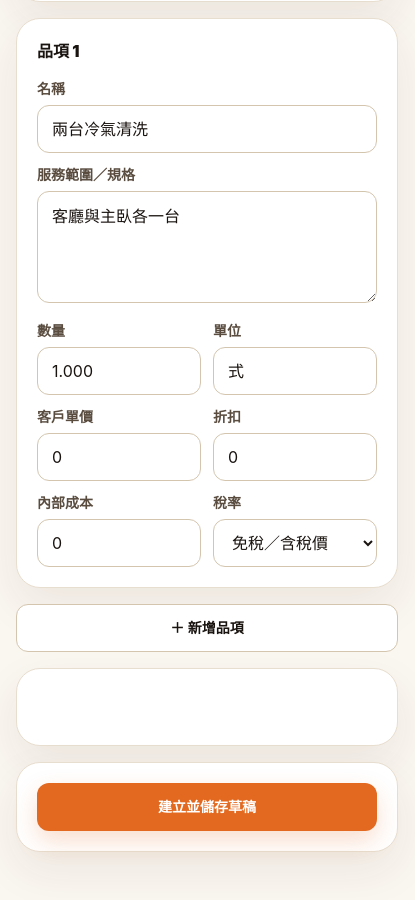
Test: PilotQuoteEditor › creates a real draft from a triaged request and previews calculated totals
This screenshot has width=415, height=900.
(page scrolled)
Replace the text in the field named "品項 1 客戶單價" with "2500": (119, 456) [37, 432, 201, 480]
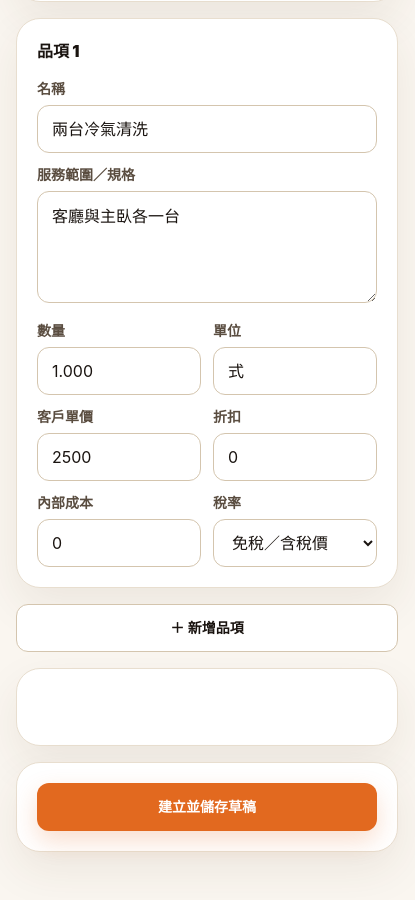
Click the button "建立並儲存草稿": (207, 806) [37, 782, 377, 830]
(page scrolled)
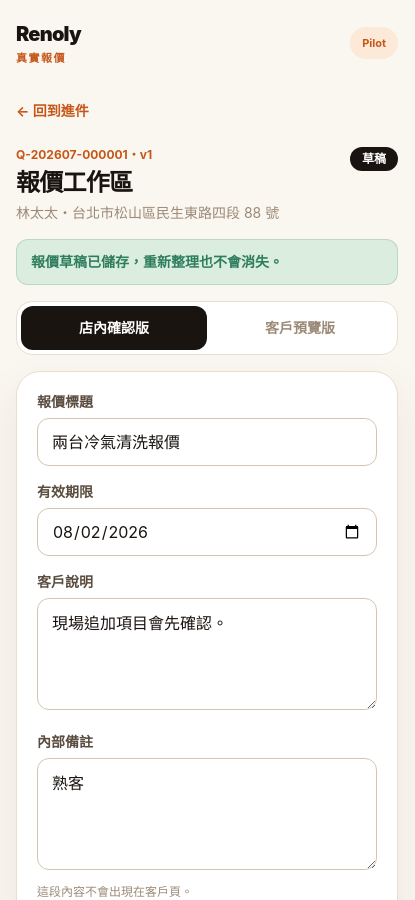
Now the text "報價草稿已儲存，重新整理也不會消失。" is shown, box [16, 238, 398, 284]
